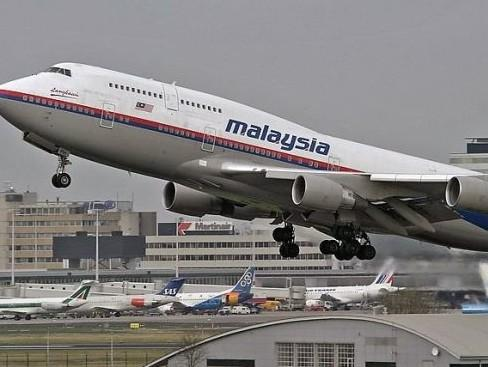airplane: (1, 46, 481, 249)
